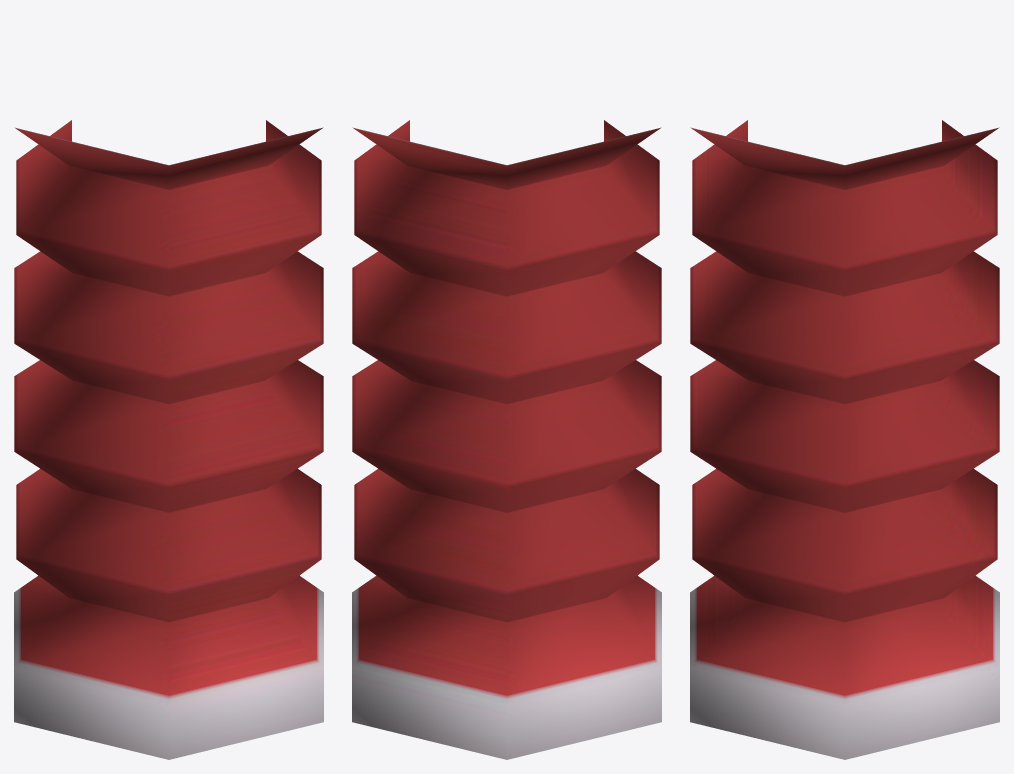
3 views of the same model, side by side, from view 1: azimuth 30°, elevation 25°; view 2: azimuth 150°, elevation 25°; view 3: azimuth 270°, elevation 25° (orthographic).
Visible parts, largest first — view 1: Spring01; view 2: Spring01; view 3: Spring01.
Part boxes in pixels (bbox=[...]): Spring01: bbox=[14, 120, 323, 759]; Spring01: bbox=[352, 120, 661, 759]; Spring01: bbox=[690, 120, 999, 759].
Bounding box in the file's own units: 0.5 × 0.9167 × 0.433.
1 material, 1 textured.
